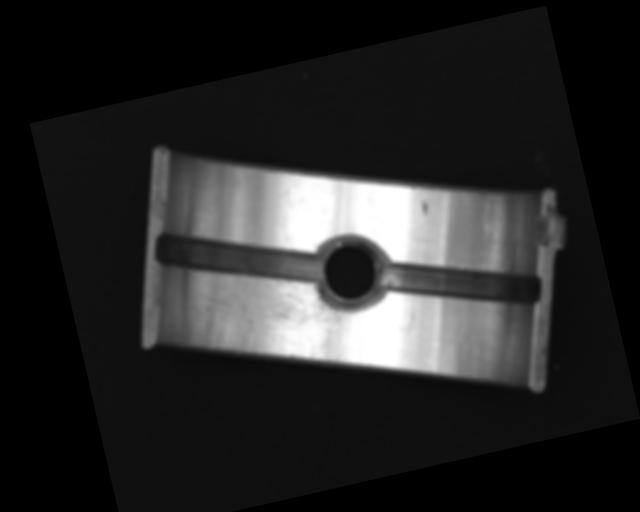bruise: (419, 199, 431, 217)
gap: (152, 200, 323, 312), (378, 234, 544, 336)
hole: (306, 225, 397, 318)
nick: (396, 295, 426, 337), (473, 196, 499, 243)
scratch: (181, 241, 370, 400)
